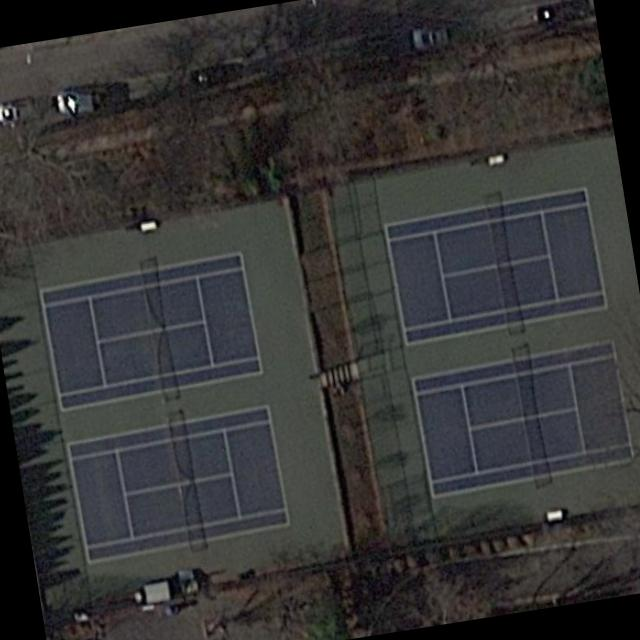small-vehicle: (0, 91, 39, 128), (54, 87, 99, 114), (408, 23, 450, 50), (539, 0, 578, 25), (194, 60, 233, 85)
